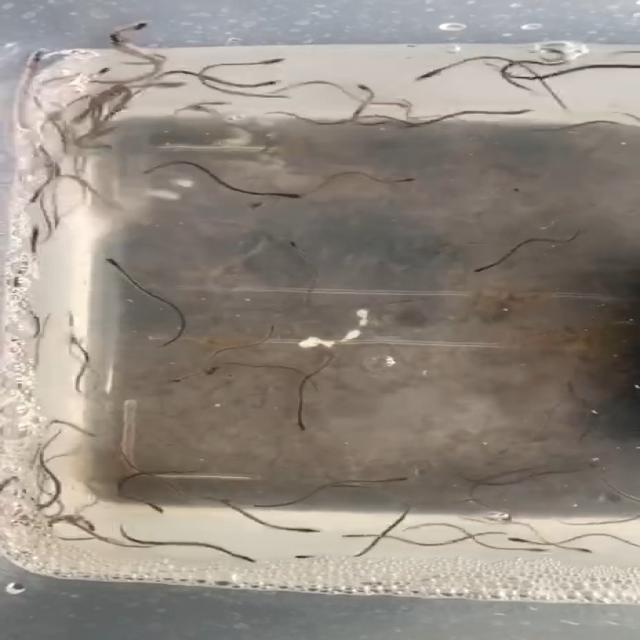inactive_glass_eel: (101, 32, 139, 51), (528, 42, 578, 56), (240, 55, 288, 69), (115, 19, 148, 39), (154, 77, 192, 93), (415, 65, 448, 83), (276, 188, 316, 202), (562, 542, 597, 558), (93, 58, 116, 82), (23, 48, 54, 65), (384, 116, 424, 129), (349, 83, 381, 99), (100, 255, 132, 271), (501, 105, 540, 118), (30, 221, 50, 246), (469, 260, 504, 274), (376, 174, 420, 185), (248, 193, 271, 214), (24, 184, 48, 204), (172, 371, 205, 385), (504, 534, 536, 548), (280, 523, 323, 533), (289, 550, 327, 561), (233, 550, 259, 566), (61, 331, 87, 347), (387, 470, 414, 485), (234, 79, 284, 87), (208, 358, 227, 379), (290, 415, 313, 432), (514, 546, 549, 557), (286, 241, 312, 255), (336, 530, 375, 539), (147, 496, 166, 514)
